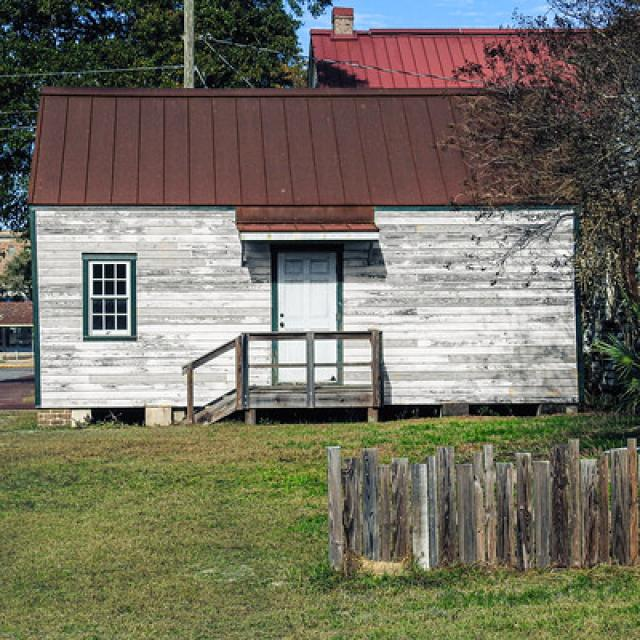building: (21, 82, 592, 420)
